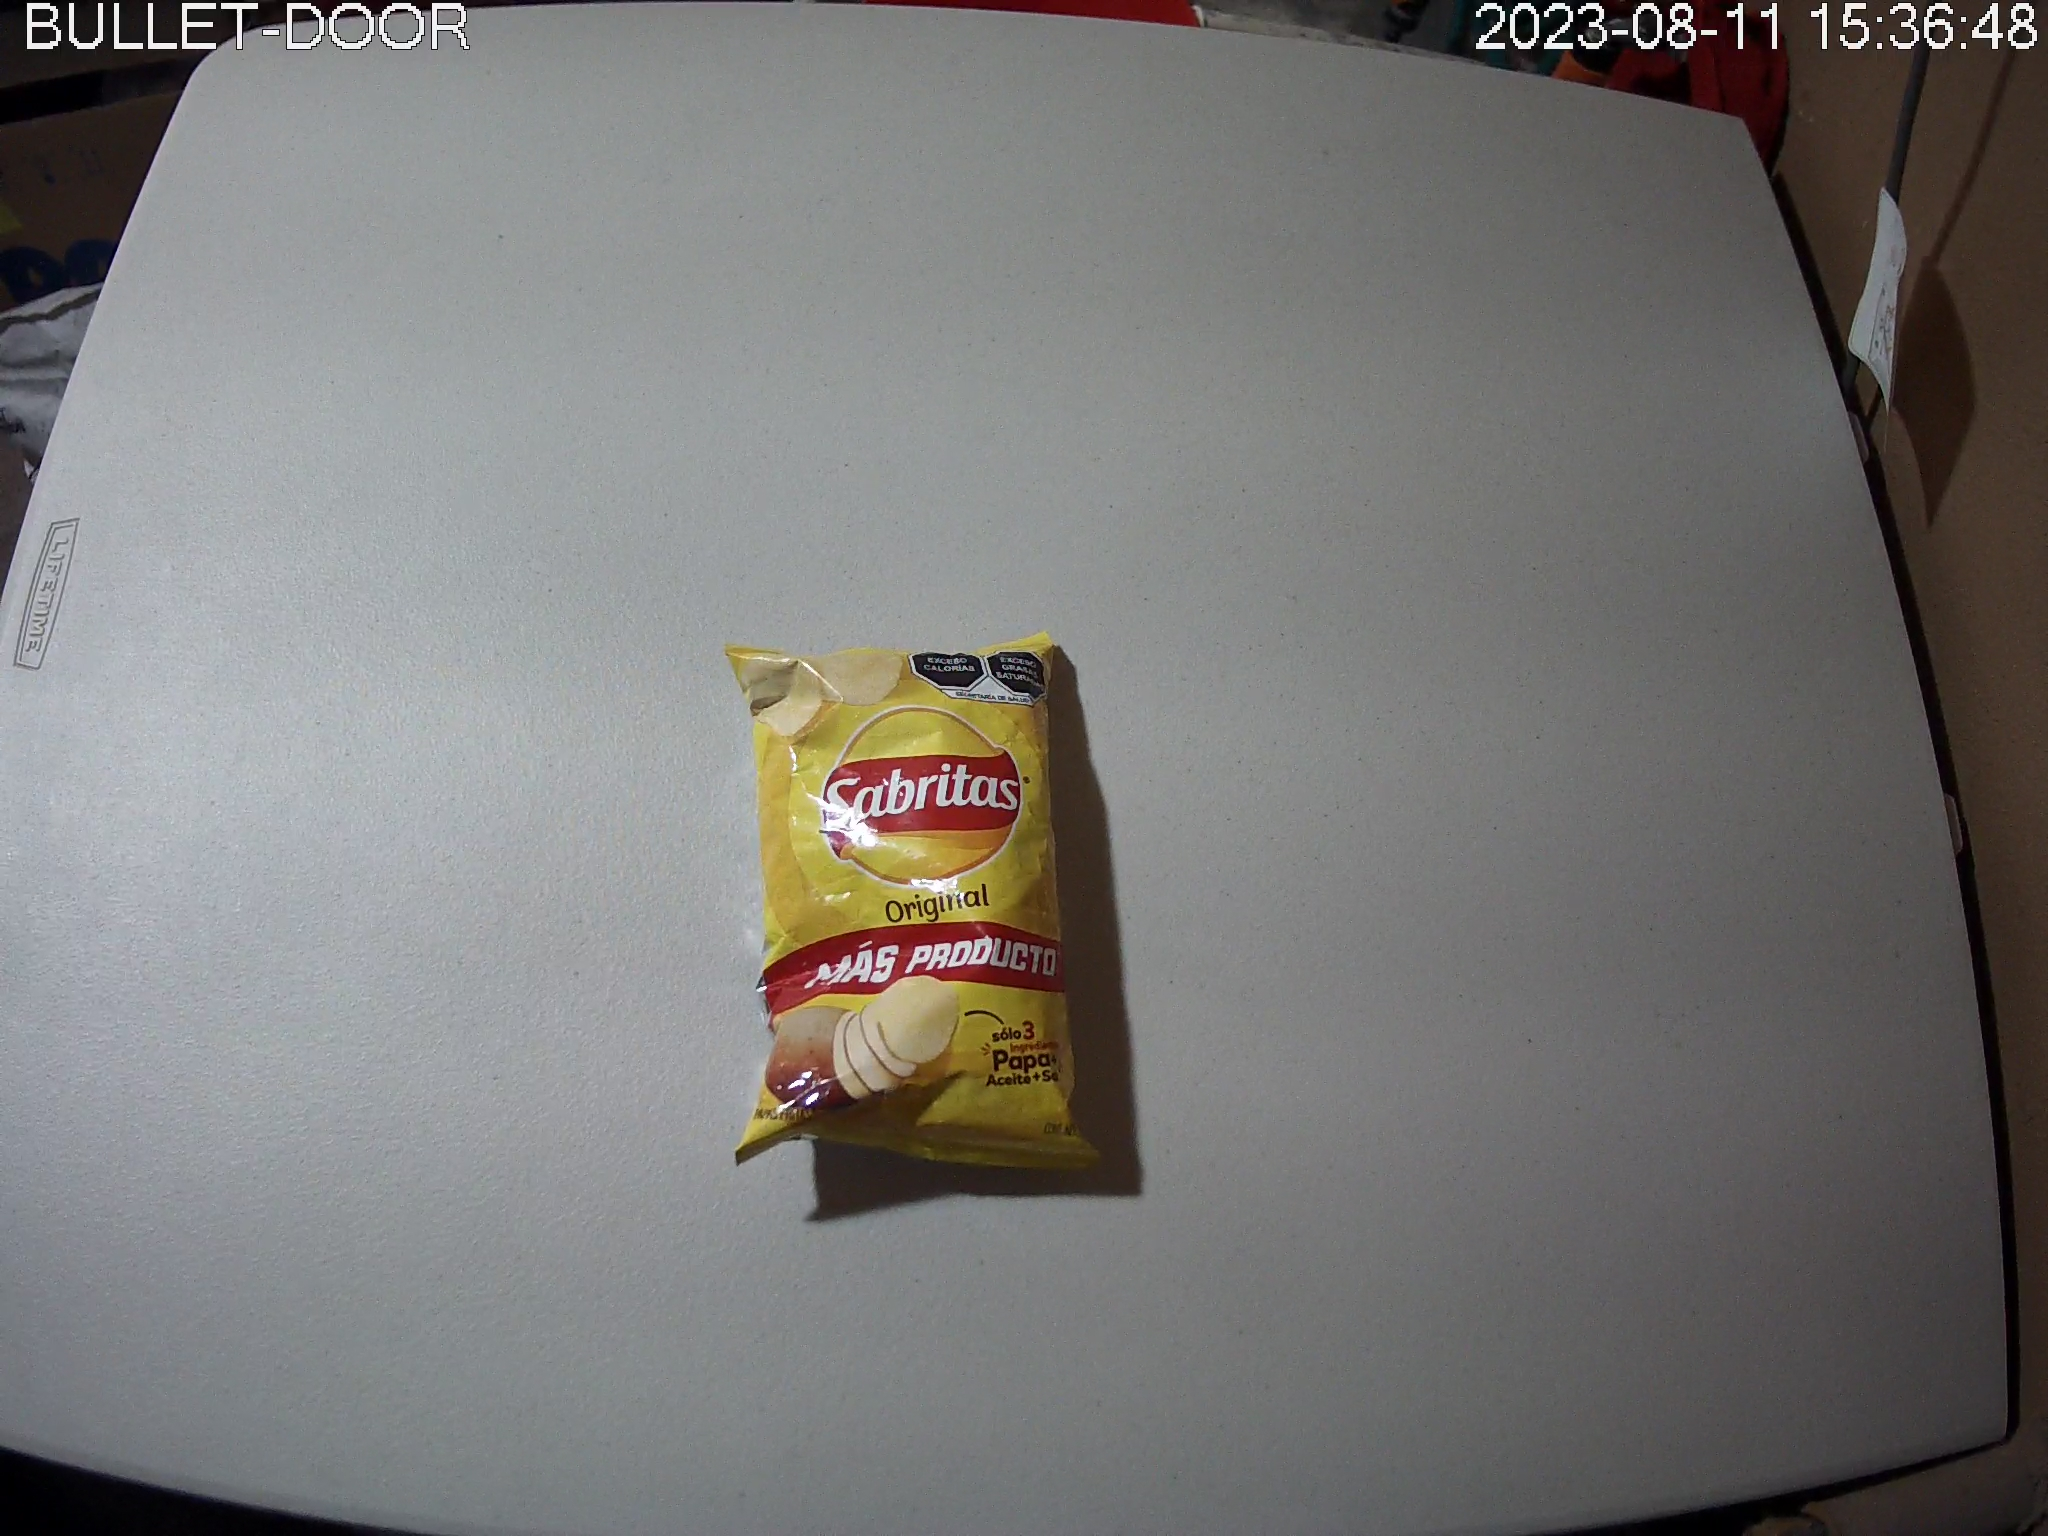Sabritas_45_F: (722, 629, 1105, 1176)
